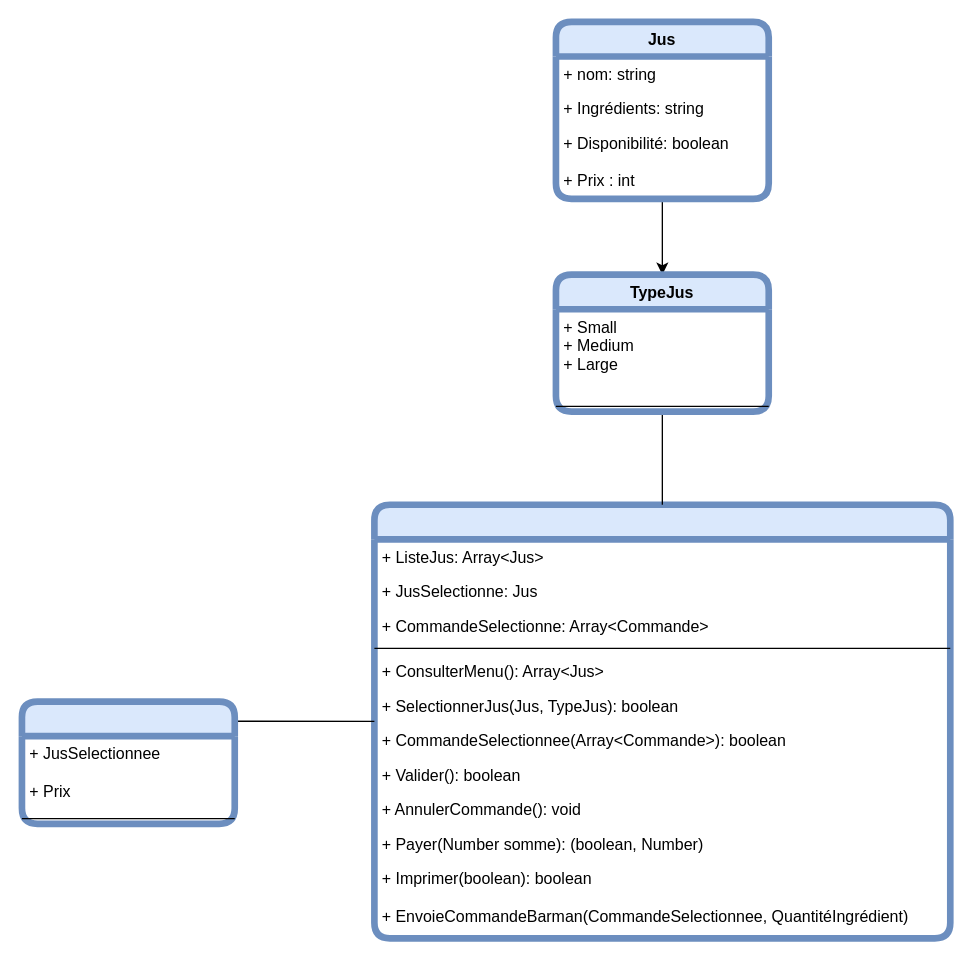
Image size: 972x960. Some labels were removed from this diagram. Here are the shapes that lost their labels. From the top down, the box of each, then its label:
(370, 501, 953, 941): Borne
(18, 698, 237, 827): Commande
